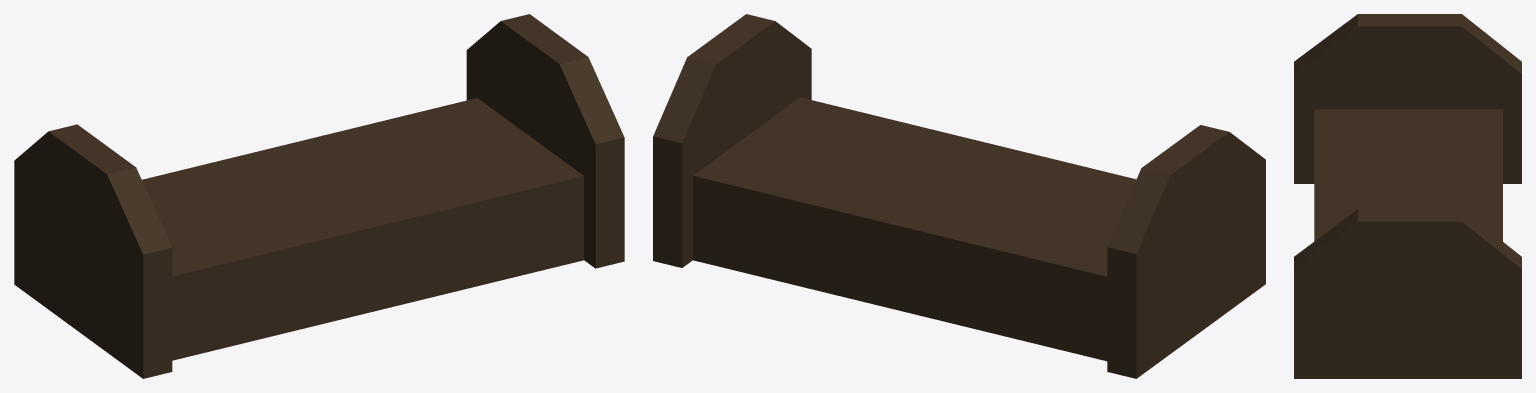
File: BEDHIGH_2_OC.OBJ
The picture shows the model from 3 angles, left to right: view 1: azimuth 30°, elevation 25°; view 2: azimuth 150°, elevation 25°; view 3: azimuth 270°, elevation 25°; orthographic projection. The views are drawn at different scales.
Parts seen in each view (by area): view 1: BEDHIGH_2_OC; view 2: BEDHIGH_2_OC; view 3: BEDHIGH_2_OC.
Boxes of the visible parts, box(x1,y1,x2,y2) form: BEDHIGH_2_OC: box(14, 14, 624, 378); BEDHIGH_2_OC: box(653, 14, 1265, 378); BEDHIGH_2_OC: box(1294, 14, 1521, 378).
Size of the model in its own units: 2.99 by 1.06 by 1.39.
